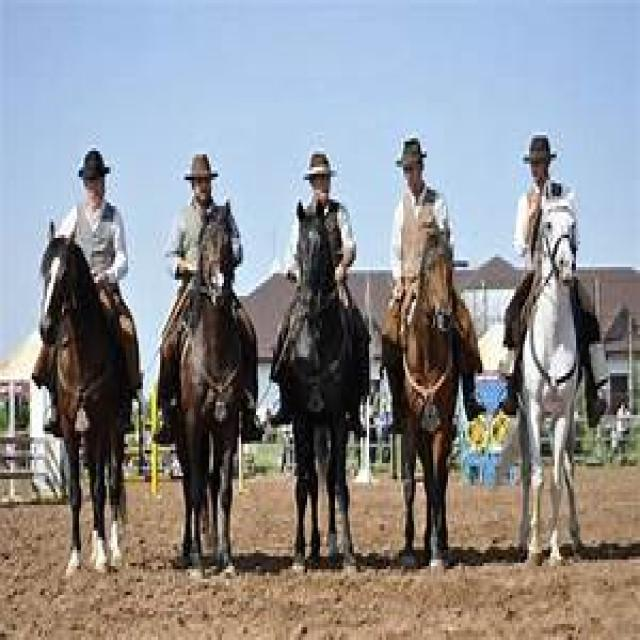animal: (39, 218, 134, 576), (277, 196, 367, 573), (382, 206, 465, 569), (171, 202, 245, 576), (514, 180, 583, 566)
